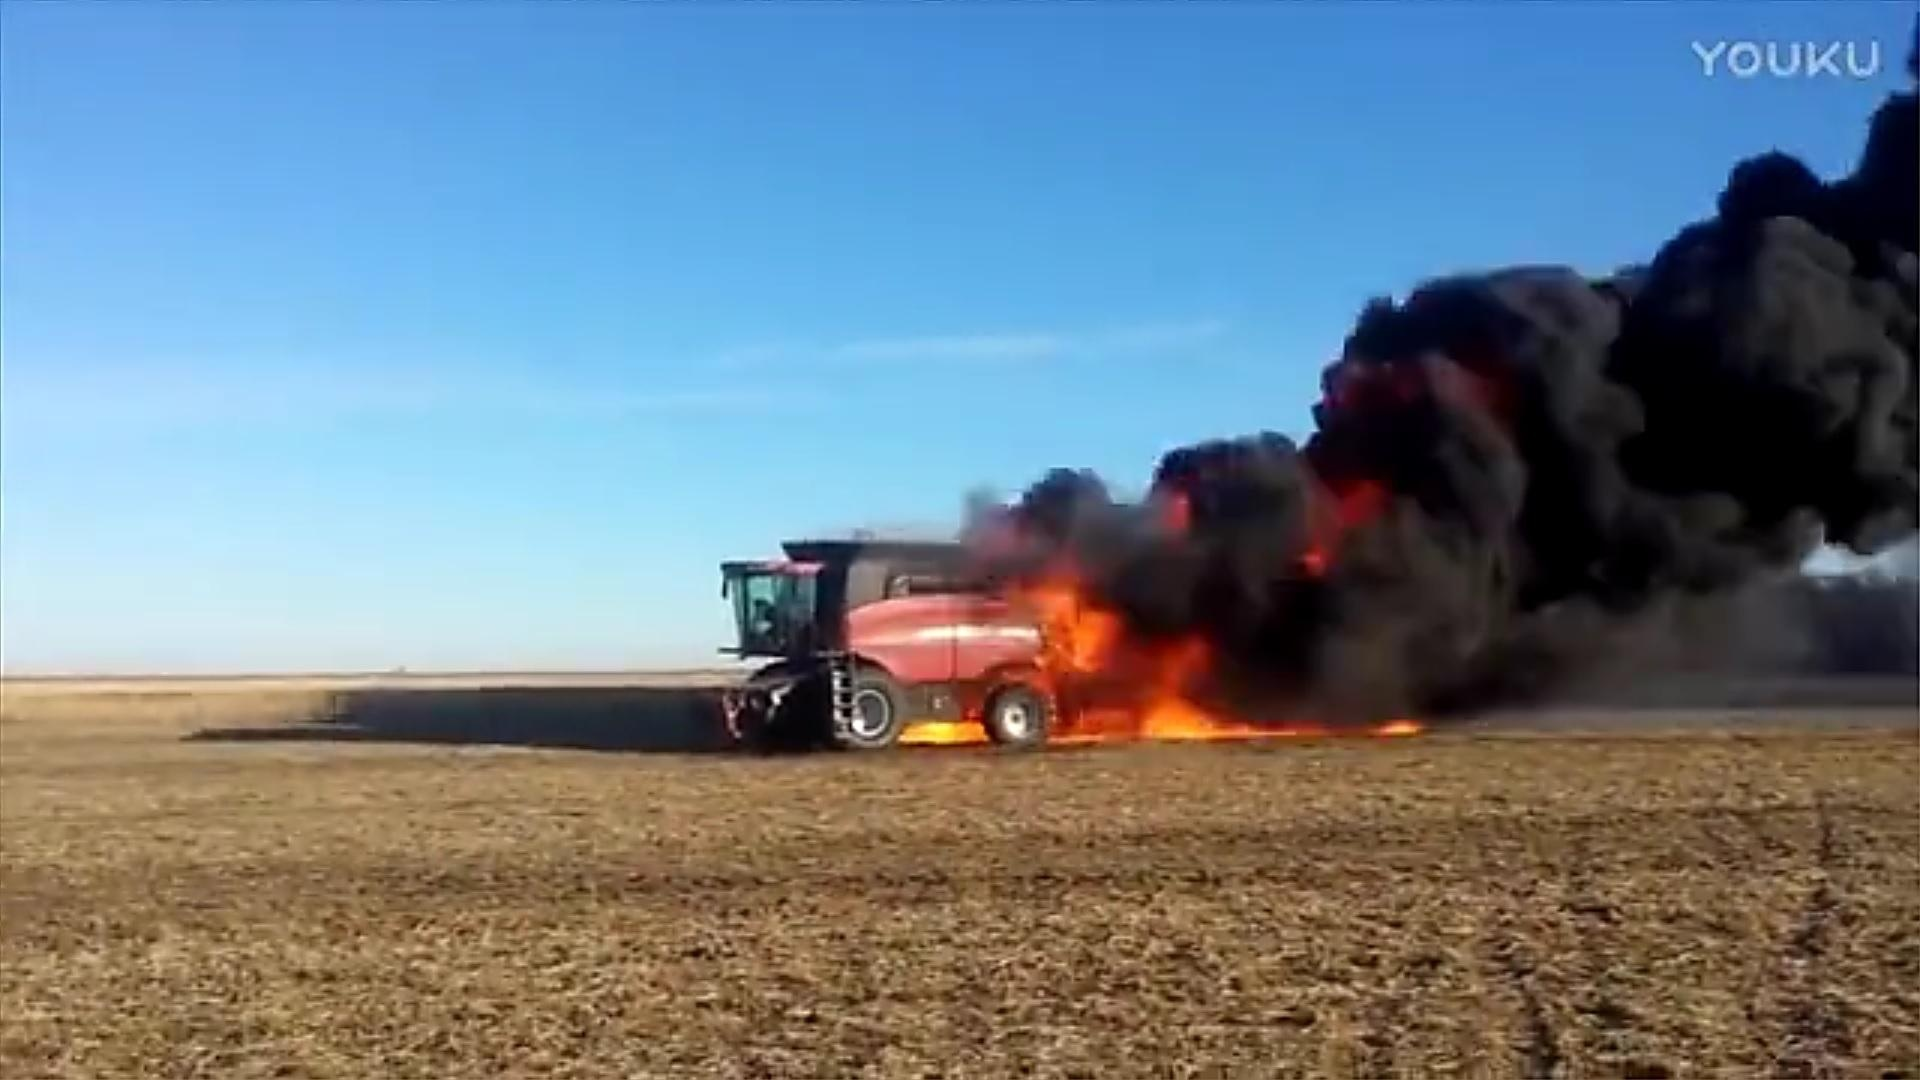fire: (860, 575, 1331, 750)
